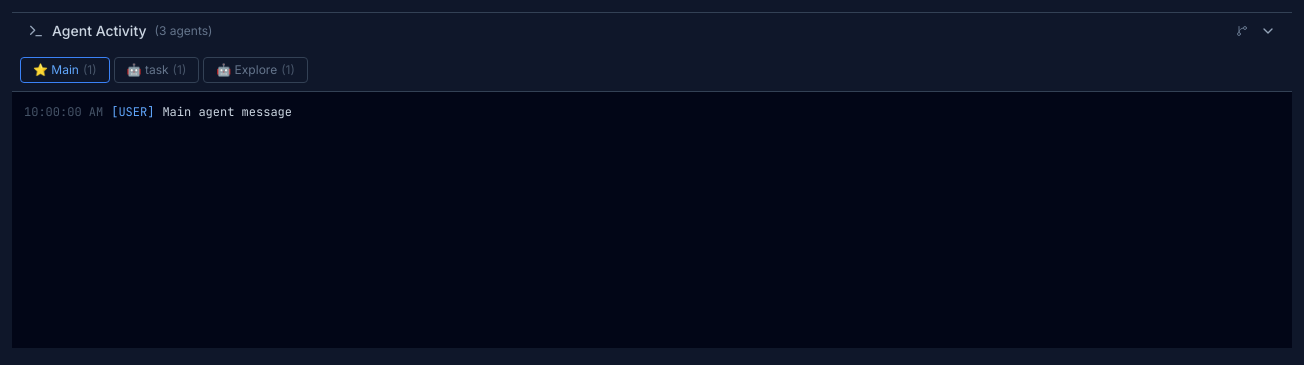
AgentLogsPanel › Agent switching › should switch to explore agent when tab is clicked
Click the button "🤖 Explore(1)". click: (256, 70)
box: x1=203 y1=57 x2=308 y2=83
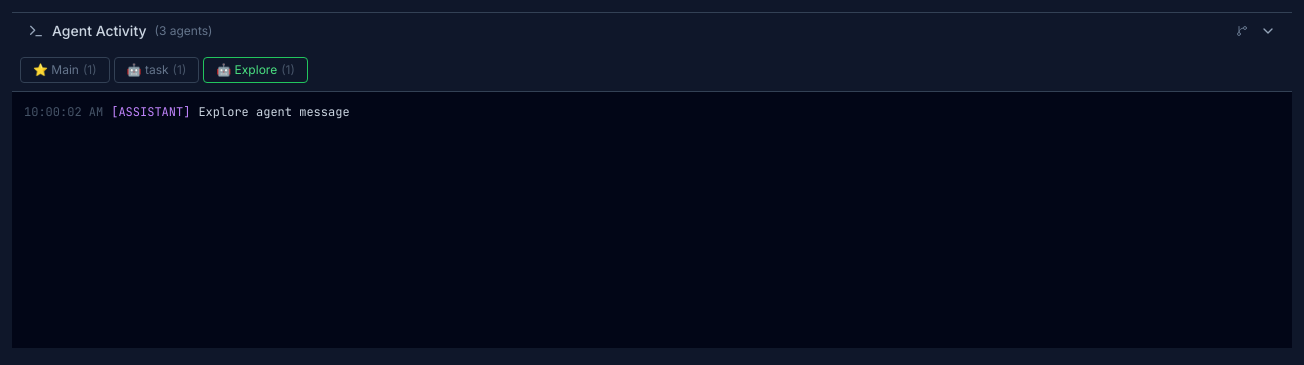
Expected: the text "Explore agent message" is shown, x1=198 y1=104 x2=350 y2=120
